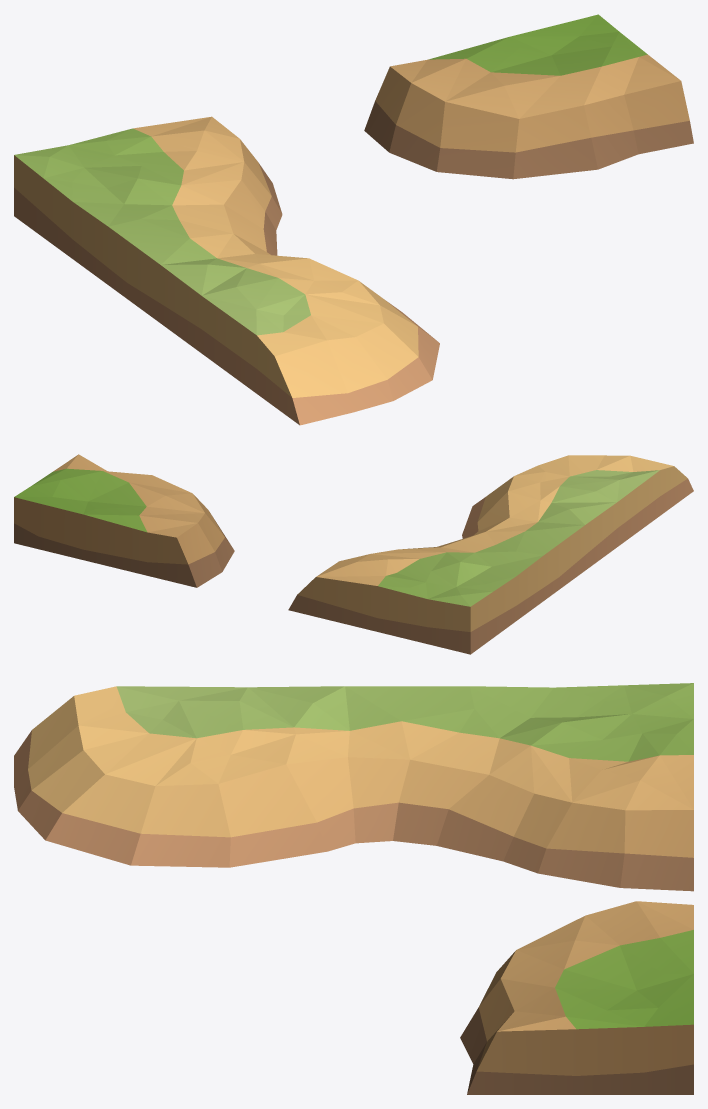
The model's file is land-sea-monster-attack.glb.
3 views of the same model, one above another, from view 1: azimuth 30°, elevation 25°; view 2: azimuth 150°, elevation 25°; view 3: azimuth 270°, elevation 25° (orthographic). The views are drawn at different scales.
Parts seen in each view (by area): view 1: land sea monster attack; view 2: land sea monster attack; view 3: land sea monster attack.
Part boxes in pixels (left/top/right/bottom): land sea monster attack: left=14, top=14, right=693, bottom=425; land sea monster attack: left=14, top=454, right=693, bottom=654; land sea monster attack: left=14, top=683, right=693, bottom=1094.
Bounding box in the file's own units: 45 × 4.65 × 38.14.
1 material, 1 textured.
